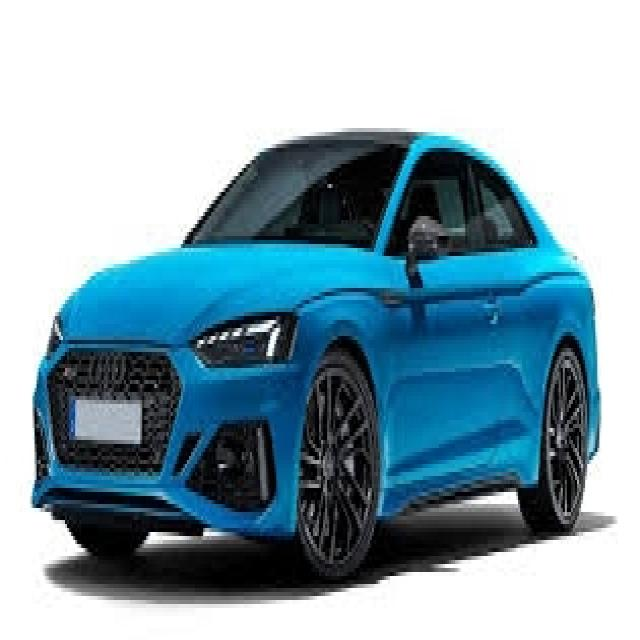blue: (38, 130, 600, 576)
